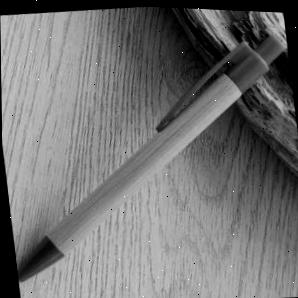pen-pencil: (17, 35, 283, 279)
